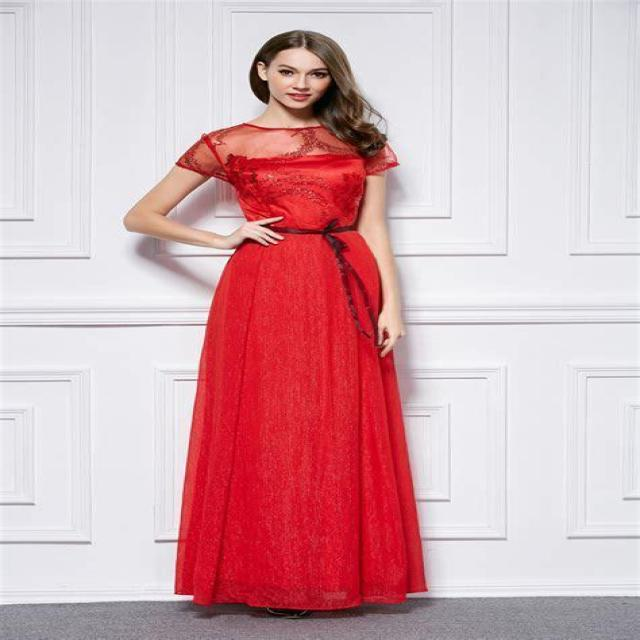dress: (175, 123, 427, 609)
